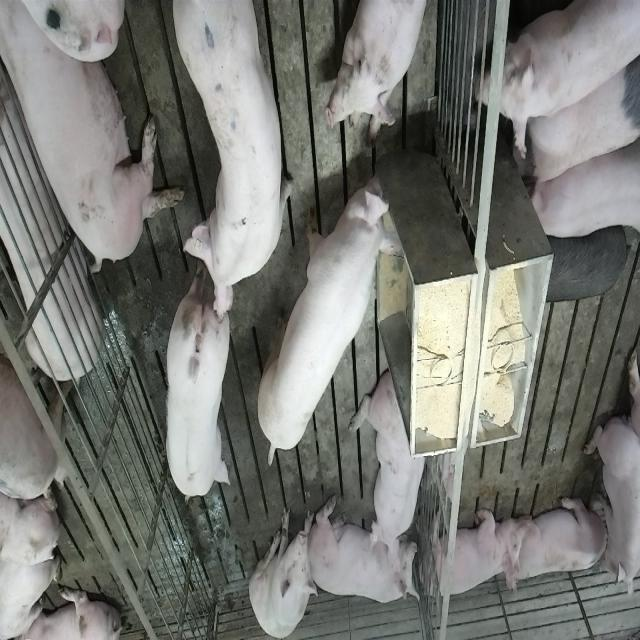Feeding: (261, 166, 409, 478)
Lateral_lying: (4, 4, 186, 278), (0, 63, 102, 380)
Sitting: (249, 502, 319, 636)
Standing: (174, 4, 296, 327), (491, 2, 638, 152), (513, 51, 637, 195), (160, 262, 230, 506), (0, 286, 72, 498), (527, 126, 640, 245), (534, 218, 634, 306)
Sternal_lying: (331, 0, 435, 137), (356, 366, 430, 554), (313, 503, 419, 612), (585, 414, 637, 604), (508, 491, 608, 588), (426, 505, 522, 603)
